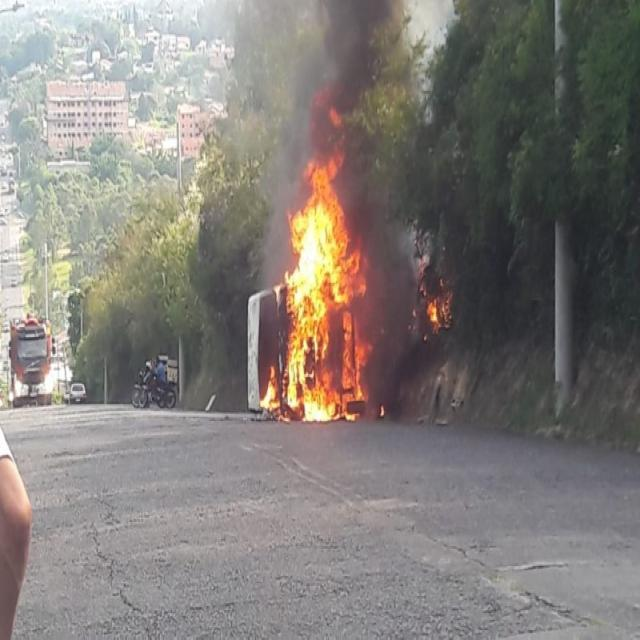Fire: (263, 108, 368, 422), (423, 288, 451, 334)
Smoke: (197, 8, 331, 158)
